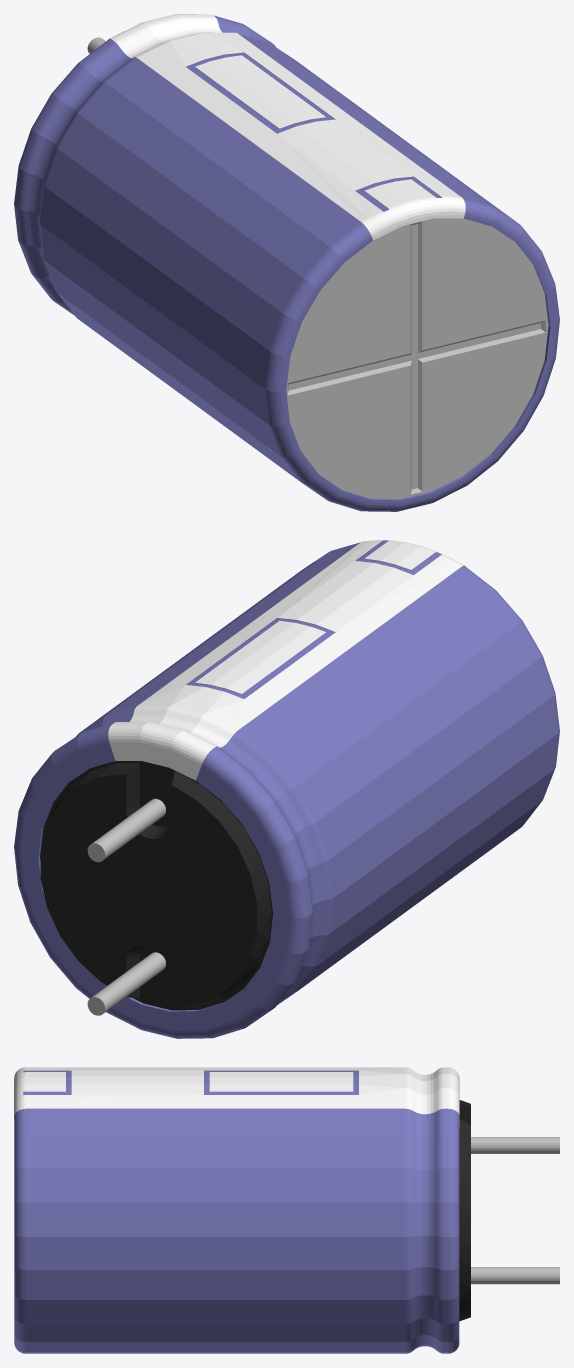
Rendered from cap_el_d10_h16_pitch5_w0.6.obj.
3 views of the same model, one above another, from view 1: azimuth 30°, elevation 25°; view 2: azimuth 150°, elevation 25°; view 3: azimuth 270°, elevation 25° (orthographic). The views are drawn at different scales.
Parts seen in each view (by area): view 1: cap_el_d10_h16_pitch5_w0.6; view 2: cap_el_d10_h16_pitch5_w0.6; view 3: cap_el_d10_h16_pitch5_w0.6.
Boxes of the visible parts, bbox=[...] form: cap_el_d10_h16_pitch5_w0.6: bbox=[14, 14, 559, 511]; cap_el_d10_h16_pitch5_w0.6: bbox=[14, 540, 559, 1038]; cap_el_d10_h16_pitch5_w0.6: bbox=[14, 1067, 559, 1353].
Size of the model in its own units: 0.0112 by 0.0112 by 0.0214.
